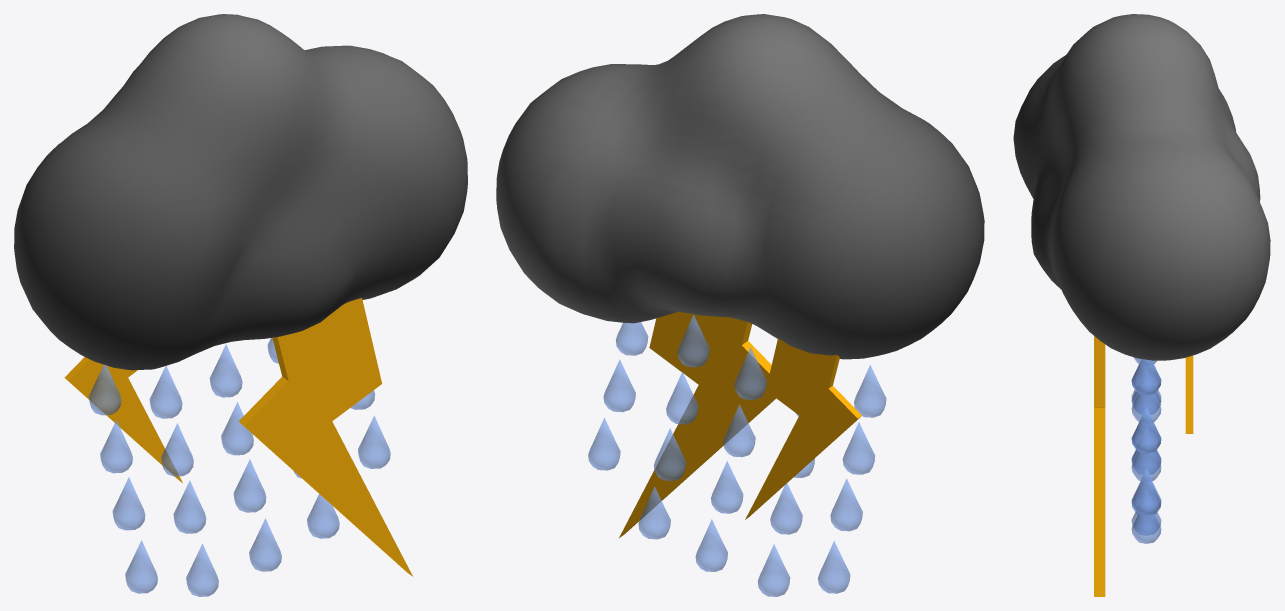
Rendered from 63_HujanLebat.fbx.
The picture shows the model from 3 angles, left to right: view 1: azimuth 30°, elevation 25°; view 2: azimuth 150°, elevation 25°; view 3: azimuth 270°, elevation 25°; orthographic projection. The views are drawn at different scales.
Parts seen in each view (by area): view 1: HujanLebat; view 2: HujanLebat; view 3: HujanLebat.
Part boxes in pixels (left/top/right/bottom): HujanLebat: left=14, top=14, right=467, bottom=596; HujanLebat: left=496, top=14, right=984, bottom=596; HujanLebat: left=1013, top=14, right=1270, bottom=596.
Bounding box in the file's own units: 478 × 597 × 275.
